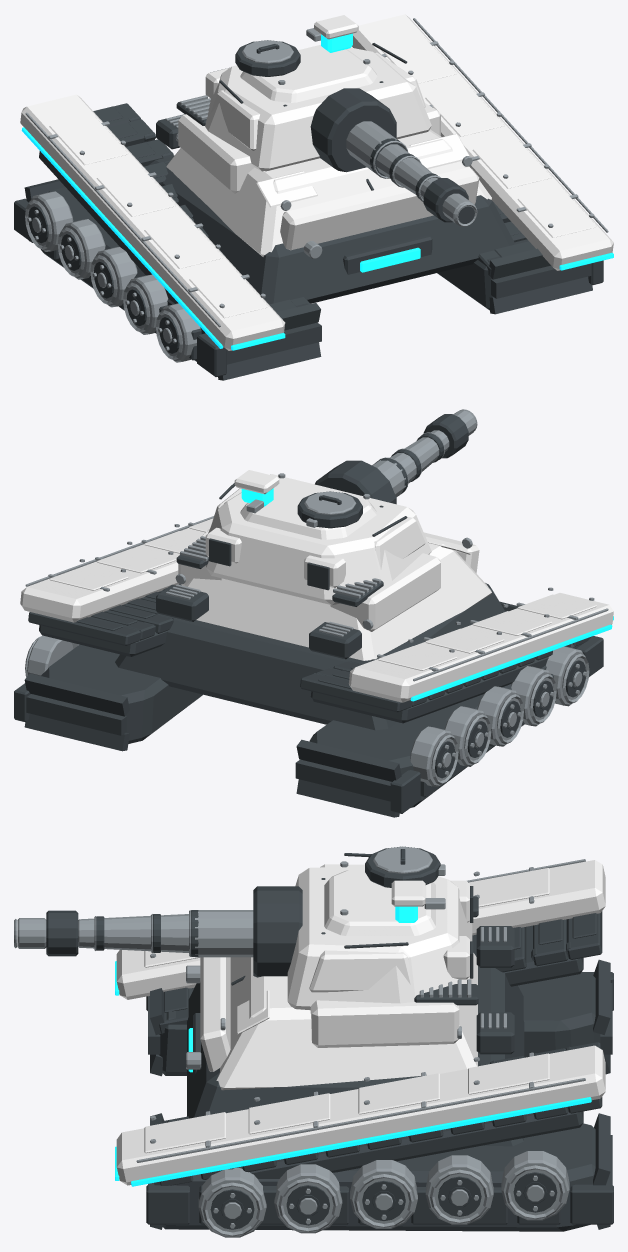
File: tankUpgraded.glb
3 views of the same model, one above another, from view 1: azimuth 30°, elevation 25°; view 2: azimuth 150°, elevation 25°; view 3: azimuth 270°, elevation 25° (orthographic). The views are drawn at different scales.
Visible parts, largest first — view 1: modelRoot:team-primary, modelRoot:structure, turretYaw:team-primary, modelRoot:neutral-metal, turretYaw:structure, turretYaw:neutral-metal, modelRoot:chassis-emissive, modelRoot:system-emissive; view 2: modelRoot:structure, modelRoot:team-primary, turretYaw:team-primary, modelRoot:neutral-metal, turretYaw:structure, turretYaw:neutral-metal, modelRoot:chassis-emissive; view 3: modelRoot:team-primary, modelRoot:structure, turretYaw:team-primary, modelRoot:neutral-metal, turretYaw:neutral-metal, turretYaw:structure, modelRoot:chassis-emissive.
Boxes of the visible parts, x1,y1,x2,y2 form: modelRoot:team-primary: (20, 14, 613, 350); modelRoot:structure: (14, 102, 603, 380); turretYaw:team-primary: (205, 15, 431, 171); modelRoot:neutral-metal: (25, 18, 608, 362); turretYaw:structure: (210, 40, 474, 223); turretYaw:neutral-metal: (242, 28, 477, 226); modelRoot:chassis-emissive: (21, 127, 613, 350); modelRoot:system-emissive: (360, 247, 420, 272); modelRoot:structure: (14, 555, 603, 817); modelRoot:team-primary: (20, 518, 613, 702); turretYaw:team-primary: (205, 470, 431, 604); modelRoot:neutral-metal: (25, 516, 608, 787); turretYaw:structure: (209, 414, 468, 590); turretYaw:neutral-metal: (246, 409, 477, 527); modelRoot:chassis-emissive: (410, 616, 613, 701); modelRoot:team-primary: (116, 860, 605, 1185); modelRoot:structure: (146, 896, 613, 1231); turretYaw:team-primary: (287, 864, 472, 1010); modelRoot:neutral-metal: (136, 859, 585, 1237); turretYaw:neutral-metal: (14, 846, 445, 957); turretYaw:structure: (46, 846, 473, 978); modelRoot:chassis-emissive: (115, 961, 591, 1186).
Bounding box in the file's own units: 2.91 × 1.52 × 3.17.
